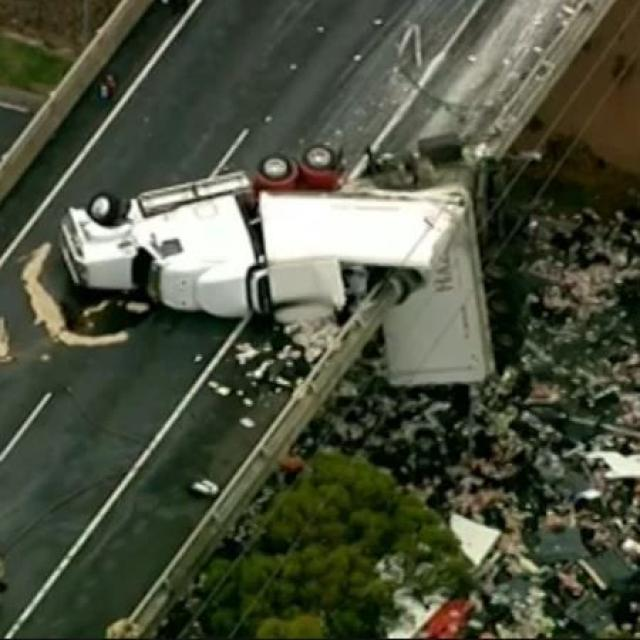traffic_incident: (49, 146, 504, 388)
